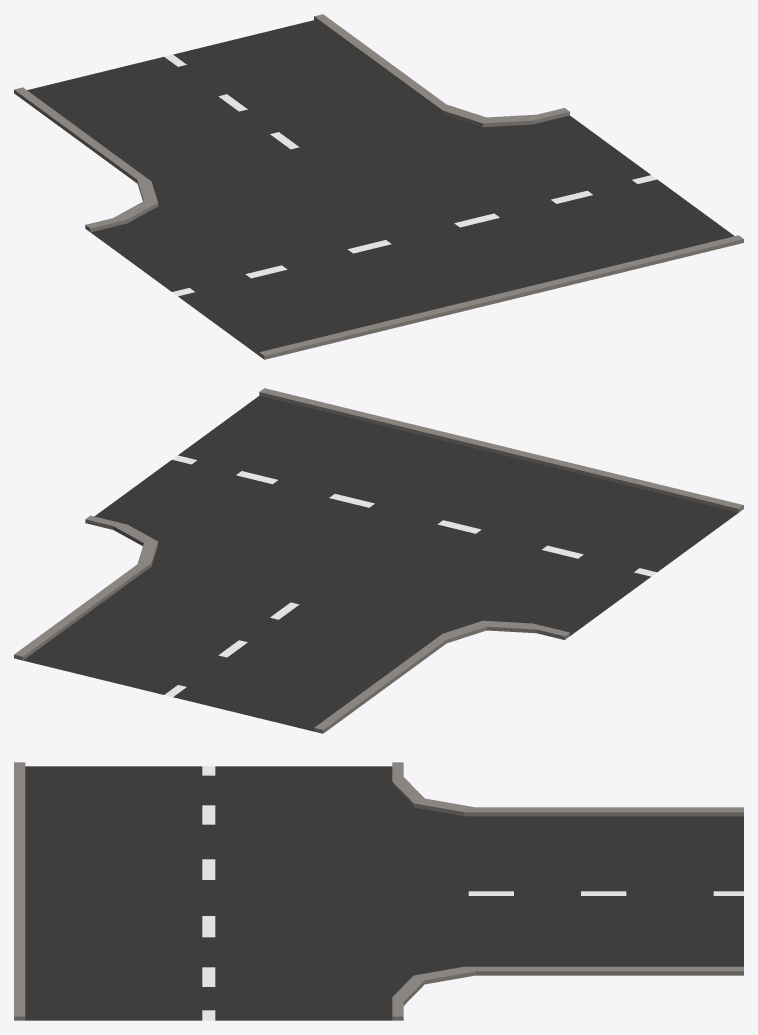
Rendered from Airport Asphalt_2.fbx.
The picture shows the model from 3 angles, top to bottom: view 1: azimuth 30°, elevation 25°; view 2: azimuth 150°, elevation 25°; view 3: azimuth 270°, elevation 25°; orthographic projection. The views are drawn at different scales.
Parts seen in each view (by area): view 1: Airport Asphalt_2; view 2: Airport Asphalt_2; view 3: Airport Asphalt_2.
Part boxes in pixels (x1,y1,x2,y2): Airport Asphalt_2: (14,14,743,359); Airport Asphalt_2: (14,388,743,733); Airport Asphalt_2: (14,762,743,1020).
Bounding box in the file's own units: 2162 × 16.39 × 2622.
